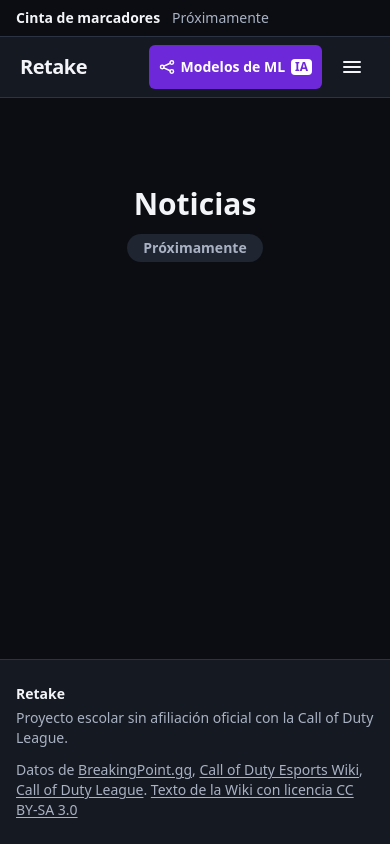
Test case: menú plegado (RF-16 a RF-22, RF-82, RF-83) › pulsar la entrada de la sección actual también cierra el panel
Click the button named "menú": [352, 67] box [330, 45, 374, 89]
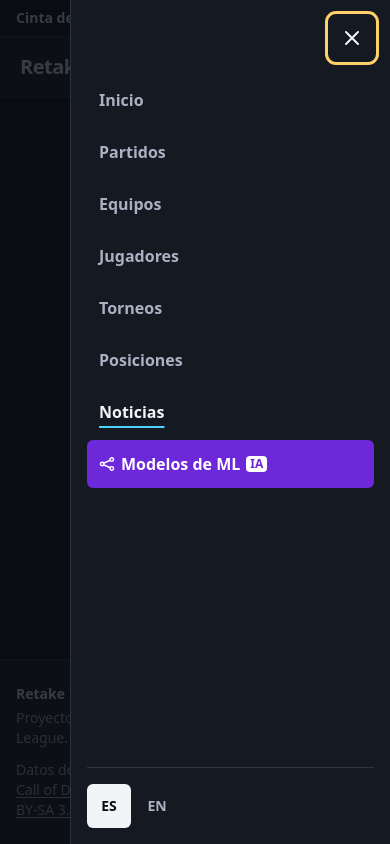
Click the link "Noticias": [132, 412] box [99, 401, 164, 423]
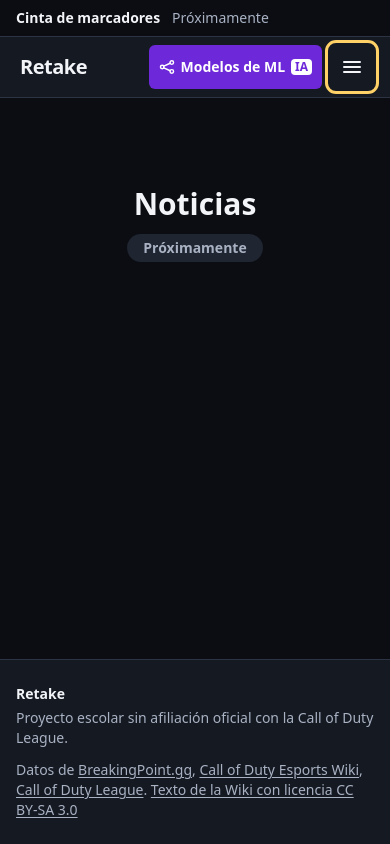
Expected: the dialog is gone
